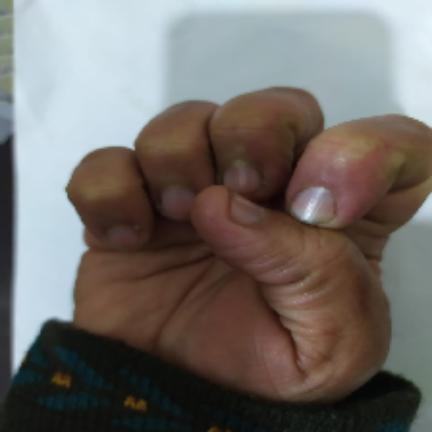Nail: (289, 186, 336, 225), (224, 159, 262, 193), (230, 192, 265, 225), (163, 187, 194, 219), (107, 226, 138, 246)
